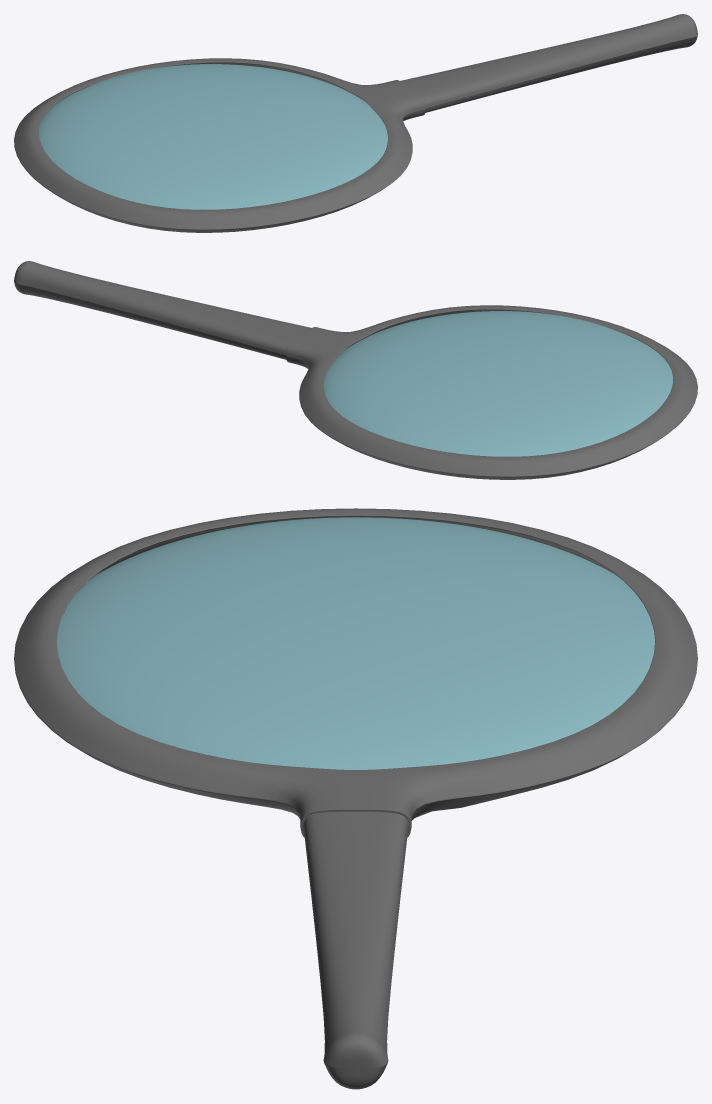
The model's file is magnifying_glass.fbx.
The picture shows the model from 3 angles, top to bottom: view 1: azimuth 30°, elevation 25°; view 2: azimuth 150°, elevation 25°; view 3: azimuth 270°, elevation 25°; orthographic projection. The views are drawn at different scales.
Parts seen in each view (by area): view 1: magnifying_glass; view 2: magnifying_glass; view 3: magnifying_glass.
Part boxes in pixels (x1,y1,x2,y2): magnifying_glass: (14, 14, 697, 232); magnifying_glass: (14, 261, 697, 479); magnifying_glass: (14, 508, 697, 1089).
Bounding box in the file's own units: 243 × 18.21 × 127.
